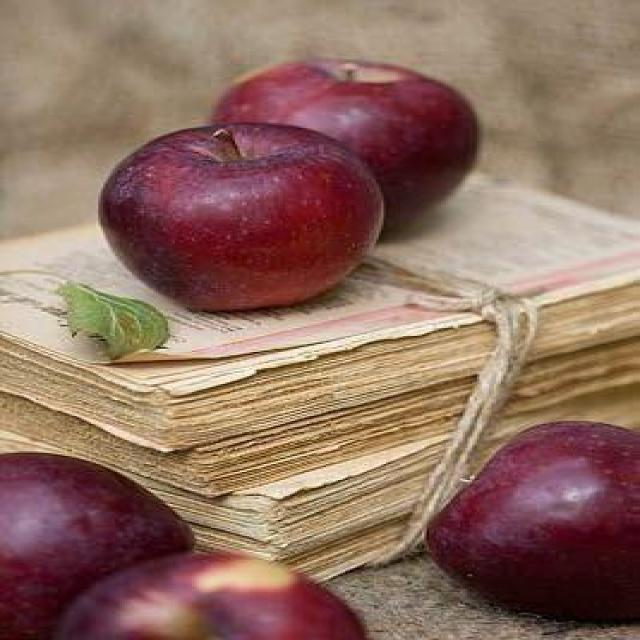apple: (98, 123, 374, 317), (426, 419, 640, 624), (220, 56, 480, 155)
